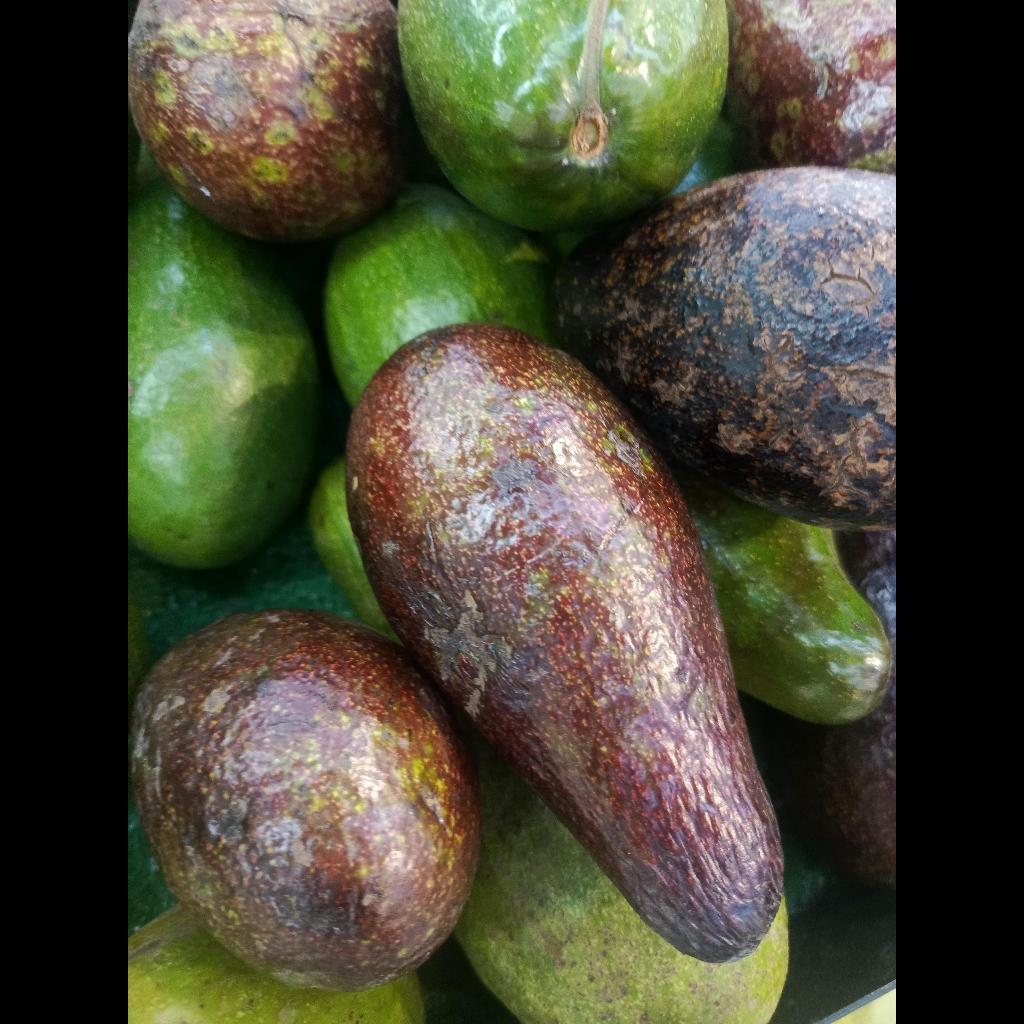anthracnose: (347, 323, 783, 963), (132, 609, 479, 990), (555, 167, 896, 530), (128, 0, 405, 241)
healthy: (128, 182, 320, 569), (325, 183, 551, 406)
scab: (347, 324, 783, 963), (132, 609, 479, 990), (554, 167, 896, 530), (555, 167, 896, 530), (399, 0, 727, 231)
